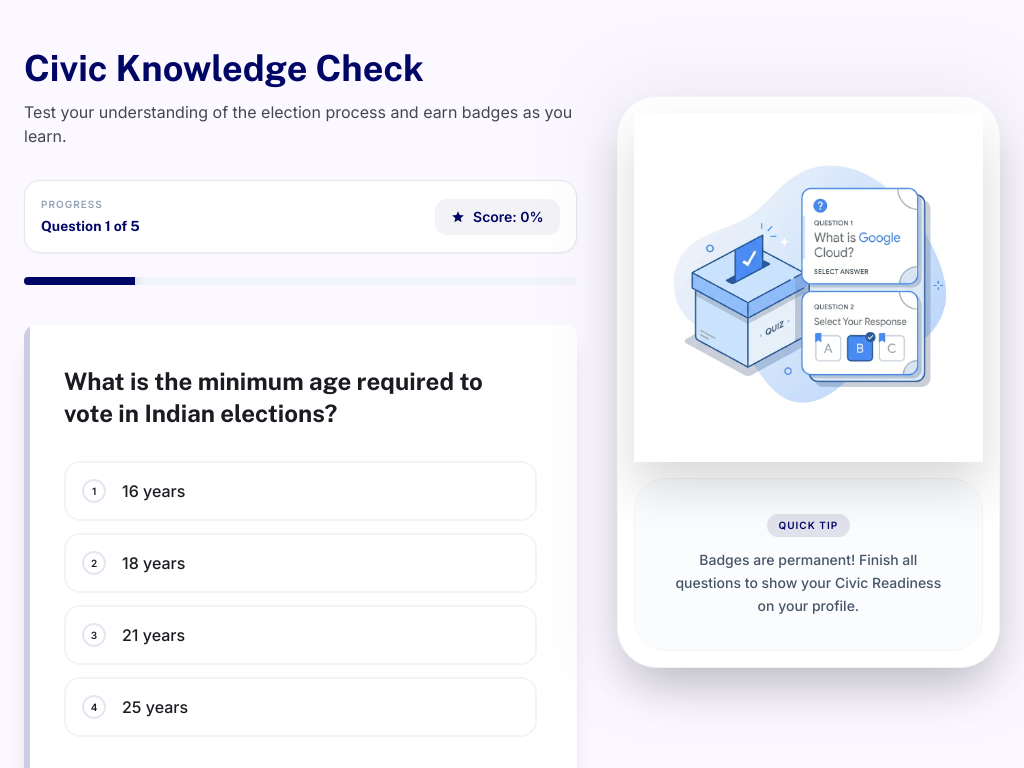
Test case: Quiz Page › can restart the quiz
Note: Answer one question
Click the text "16 years" at {"x": 154, "y": 491}, box [122,479,185,503]
(page scrolled)
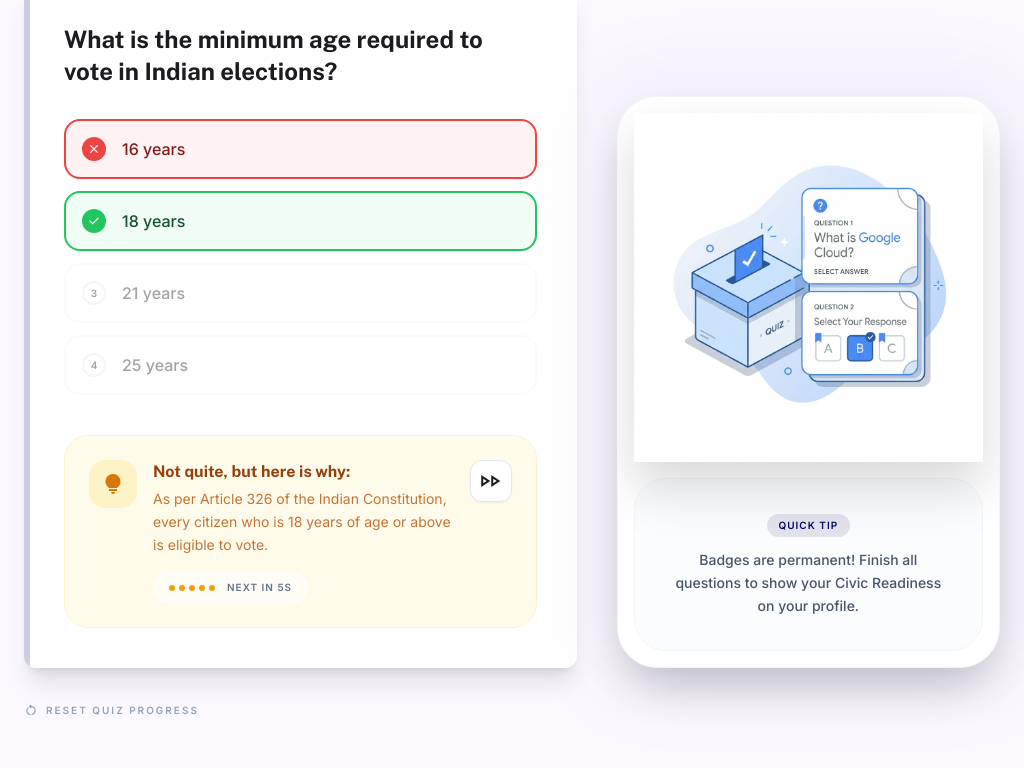
Note: Click reset progress
Click the button "Reset Quiz Progress" at {"x": 111, "y": 710}, box [24,700,199,720]
(page scrolled)
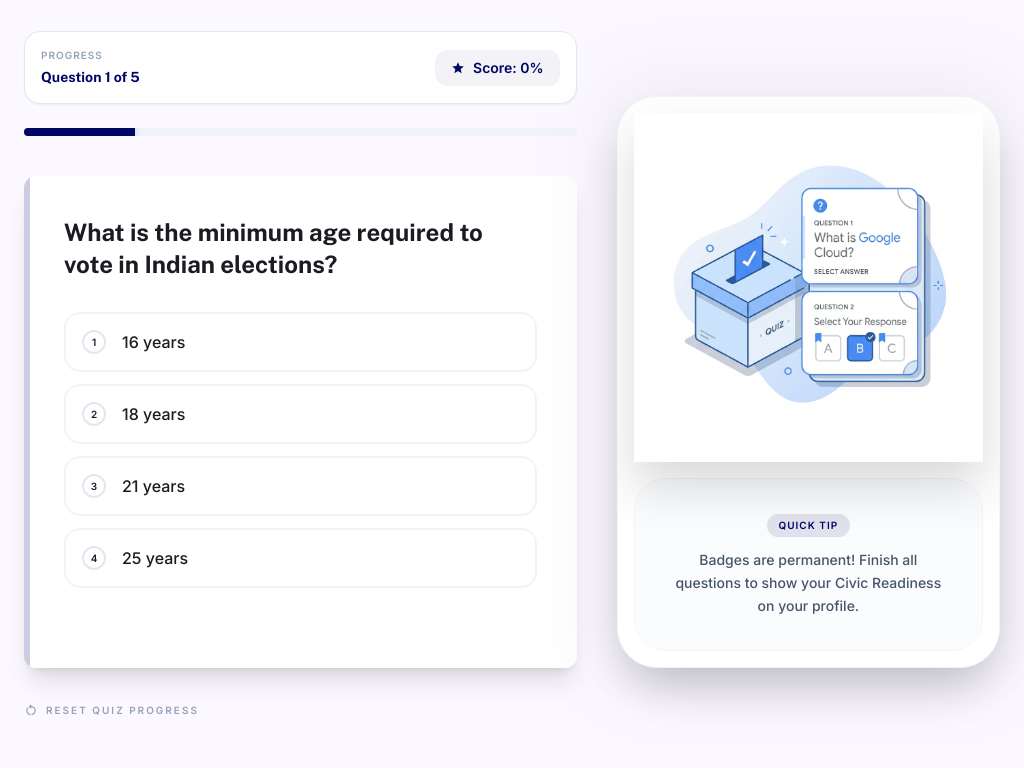
expect the heading "What is the minimum age required to vote in Indian elections?" is shown: met, box [64,216,537,280]
expect the text "Next in 5s" is gone: met
